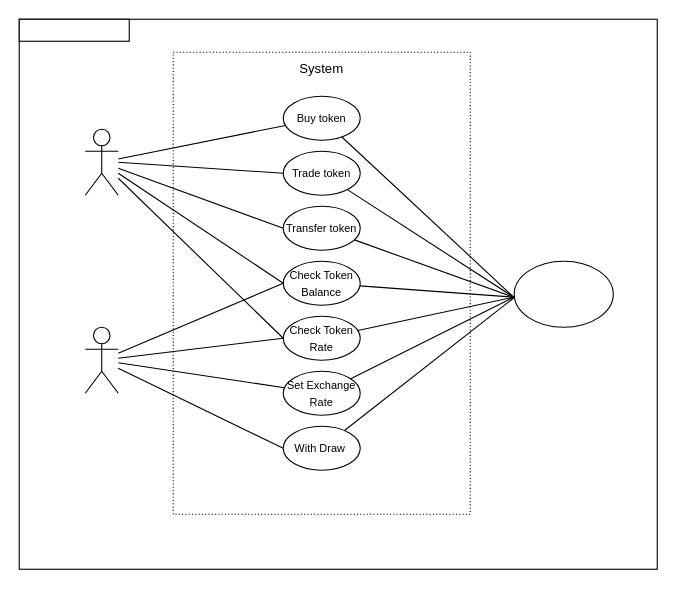
Image size: 677x589. Some labels were removed from this diagram. Here are the shapes that lost their labels. From the top down, the box of each, then its label:
(18, 18, 129, 41): Funix Use Case Diagram
(84, 128, 118, 195): Client
(513, 260, 613, 327): Reserve
(84, 326, 118, 393): Token Owner
